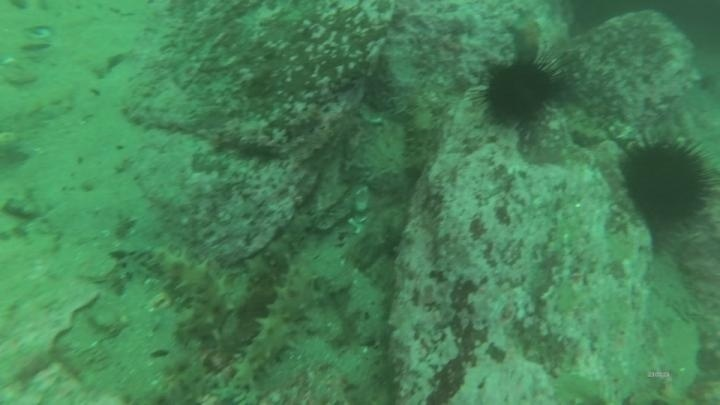echinus: (617, 132, 715, 229), (476, 55, 563, 127)
holothurian: (230, 263, 321, 391), (149, 244, 234, 343), (243, 213, 314, 291), (400, 90, 440, 175)
starfish: (506, 10, 546, 62)
